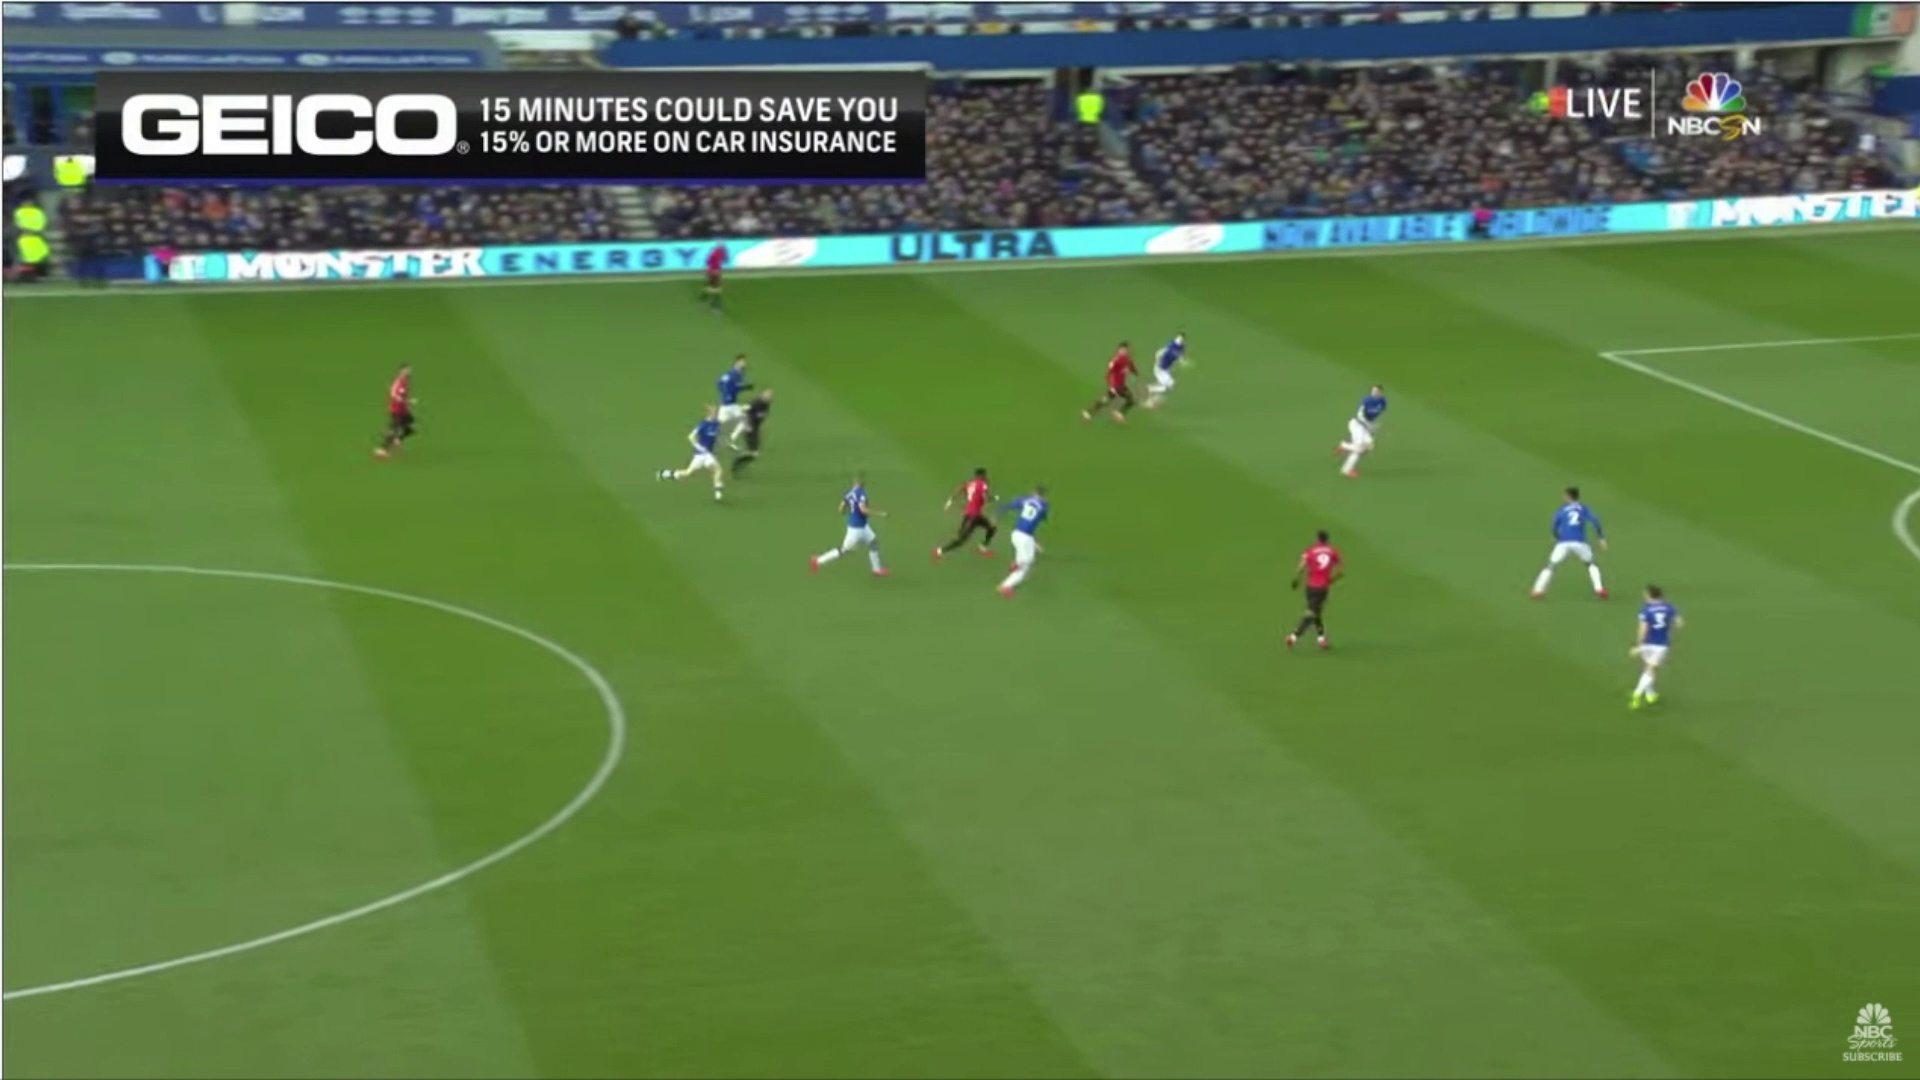ball: (1027, 537, 1052, 562)
player: (789, 465, 918, 602), (1279, 519, 1370, 681), (1525, 479, 1627, 602), (1616, 560, 1691, 717), (929, 448, 1002, 575), (1327, 375, 1408, 487), (649, 404, 737, 506), (358, 342, 431, 462), (1135, 306, 1202, 427), (995, 479, 1060, 604), (1081, 333, 1147, 433), (702, 344, 760, 442), (689, 233, 739, 310)
